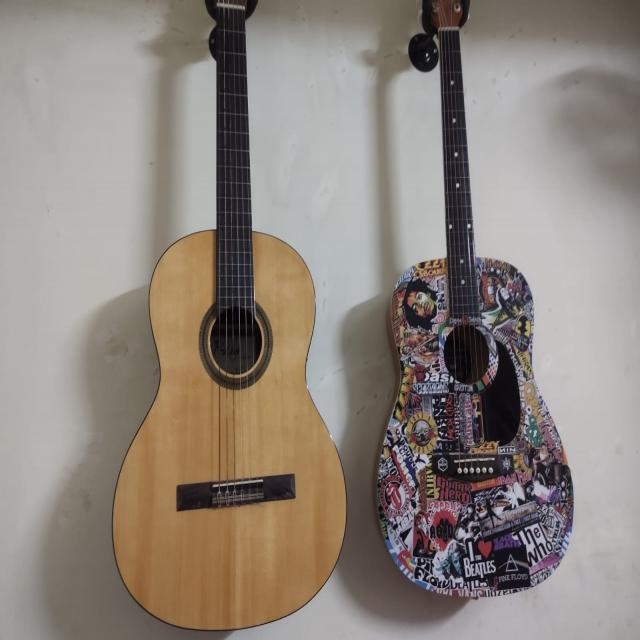Animals: (90, 20, 364, 636), (354, 0, 584, 616)
